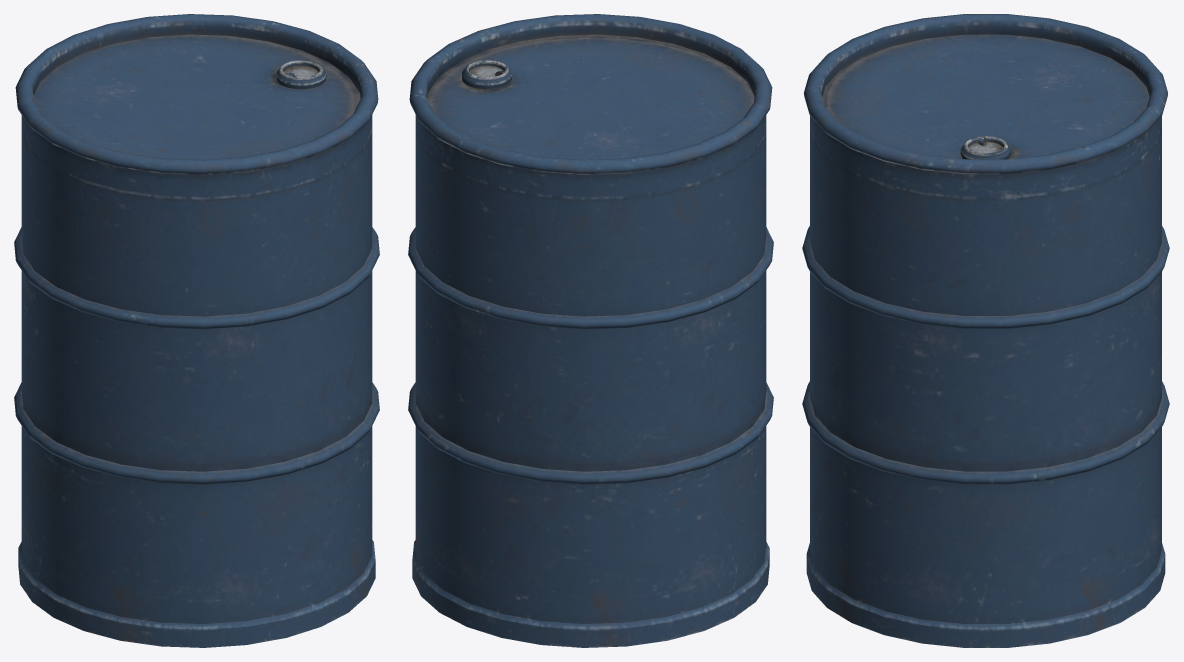
The model's file is ph_barrel_03.fbx.
3 renders of one model, left to right at view 1: azimuth 30°, elevation 25°; view 2: azimuth 150°, elevation 25°; view 3: azimuth 270°, elevation 25°, orthographic.
Visible parts, largest first — view 1: ph_barrel_03_LOD0; view 2: ph_barrel_03_LOD0; view 3: ph_barrel_03_LOD0.
Part boxes in pixels (x1,y1,x2,y2): ph_barrel_03_LOD0: (14, 14, 379, 647); ph_barrel_03_LOD0: (408, 14, 773, 647); ph_barrel_03_LOD0: (802, 14, 1169, 647).
Size of what is drawn, in the model's own units: 0.6339 by 0.9305 by 0.6386.
